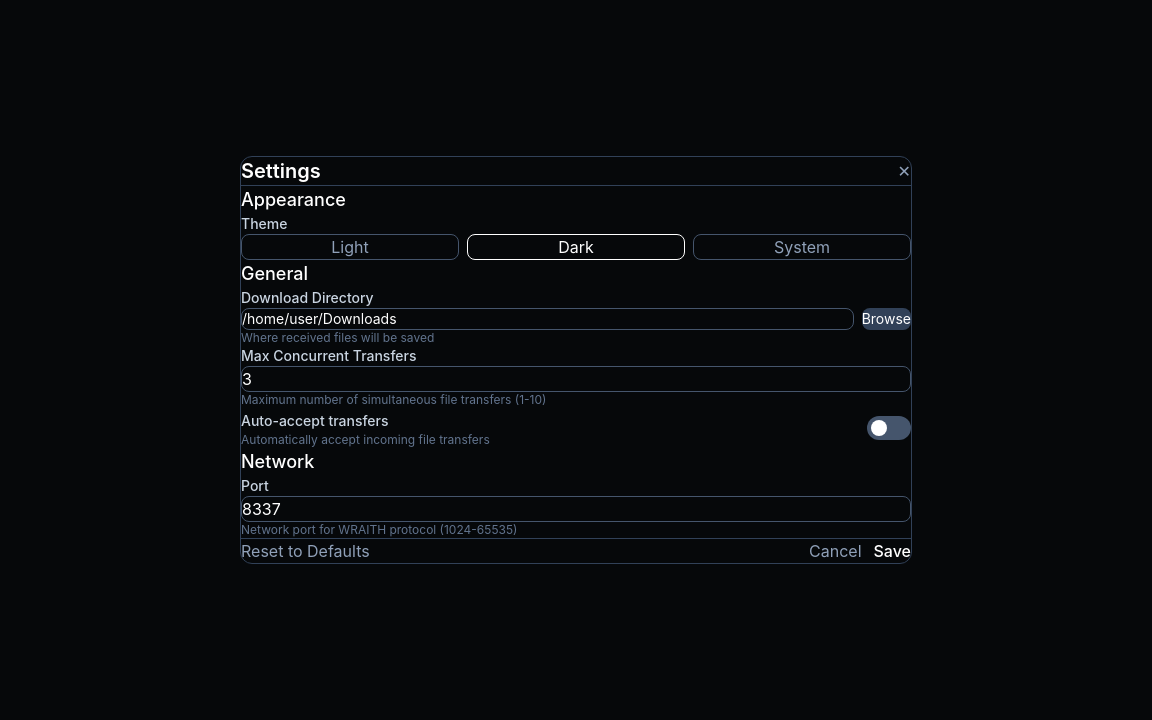
it: SettingsPanel › form behavior › allows editing port
Note: Select all text and replace
Click the 2nd number field showing "8337" at [576, 509], box [241, 496, 911, 522]
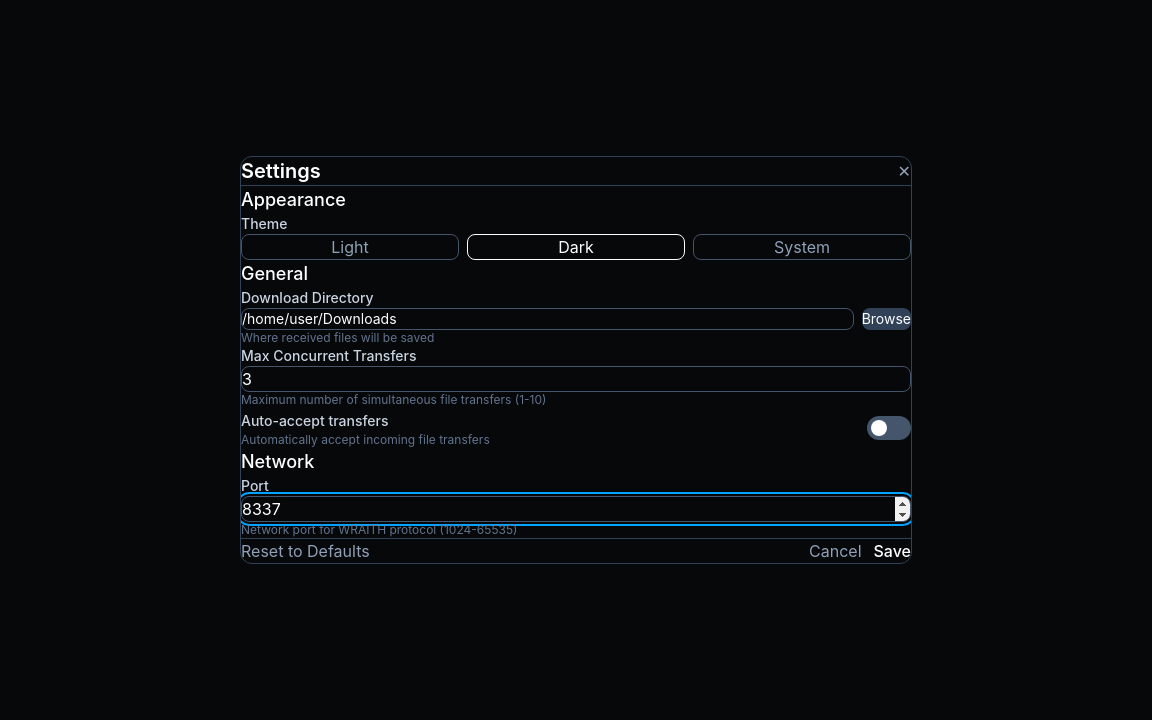
Type keys "9000"
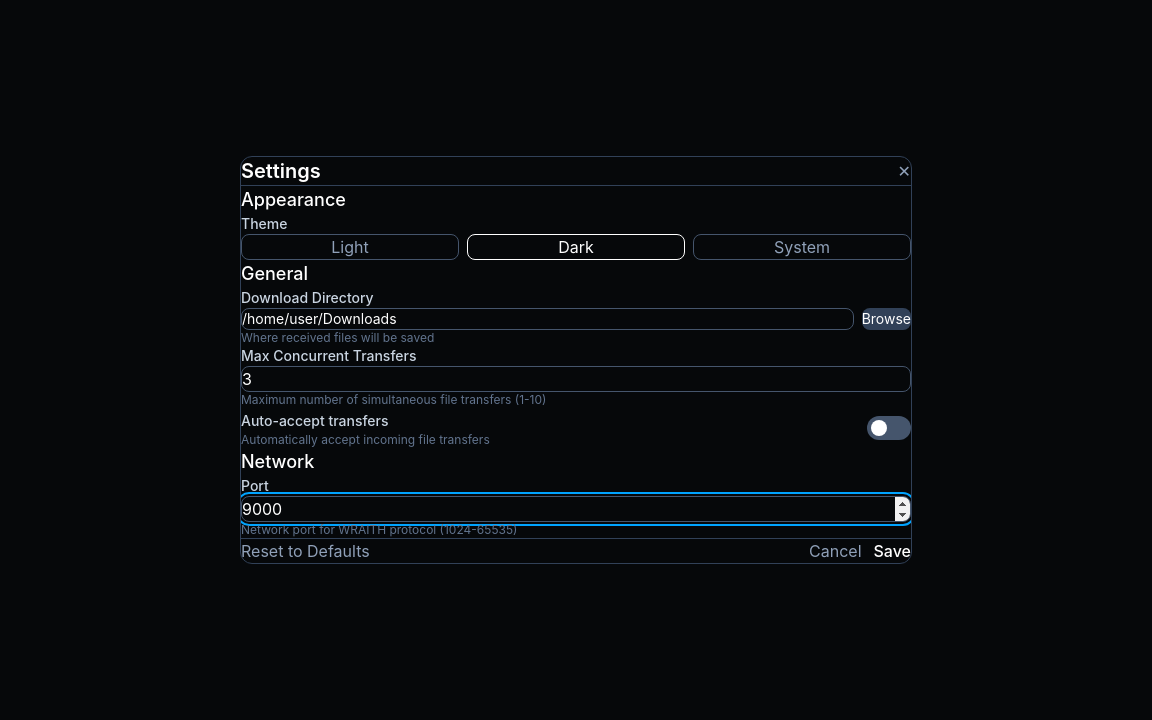
expect the 2nd number field showing "8337" holds "9000": met, box [241, 496, 911, 522]
